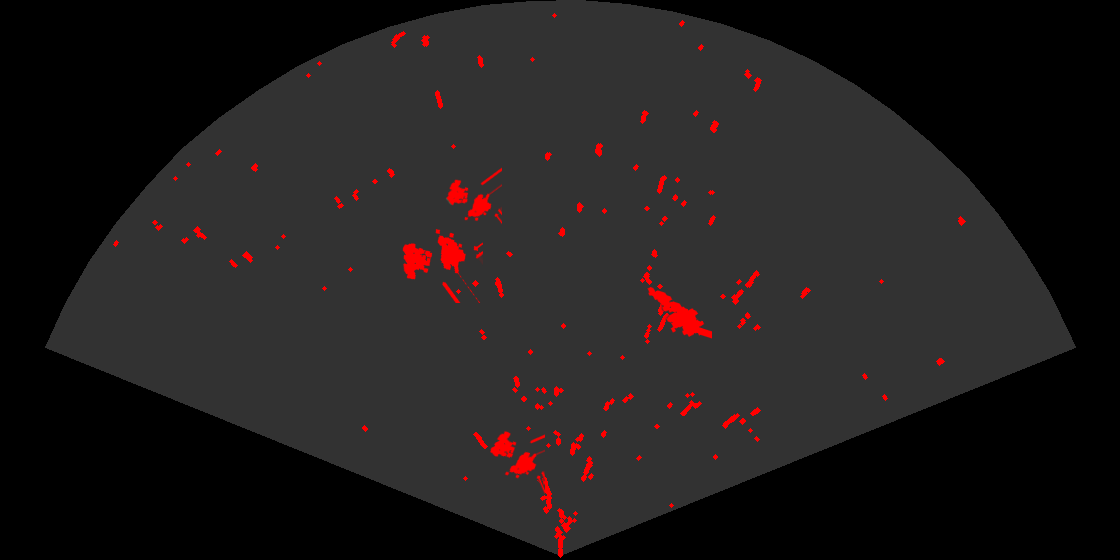cage: (401, 227, 483, 303), (489, 429, 545, 494), (445, 166, 502, 226)
frogman: (646, 285, 712, 340)
